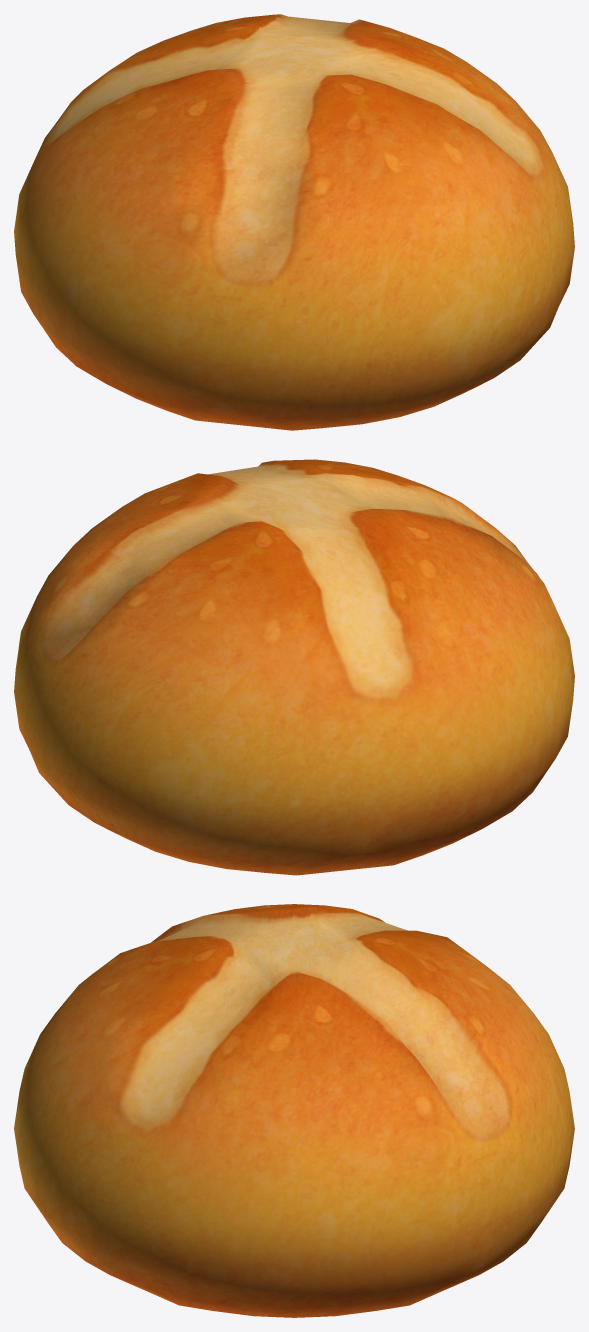
File: MianBao.FBX
3 views of the same model, one above another, from view 1: azimuth 30°, elevation 25°; view 2: azimuth 150°, elevation 25°; view 3: azimuth 270°, elevation 25° (orthographic).
Parts seen in each view (by area): view 1: MianBao; view 2: MianBao; view 3: MianBao.
Boxes of the visible parts, x1,y1,x2,y2 form: MianBao: (14, 14, 574, 430); MianBao: (14, 459, 574, 875); MianBao: (14, 904, 574, 1317).
Bounding box in the file's own units: 72.22 × 43.57 × 72.23.
1 material, 1 textured.
